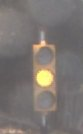Yellow: (27, 34, 57, 116)
